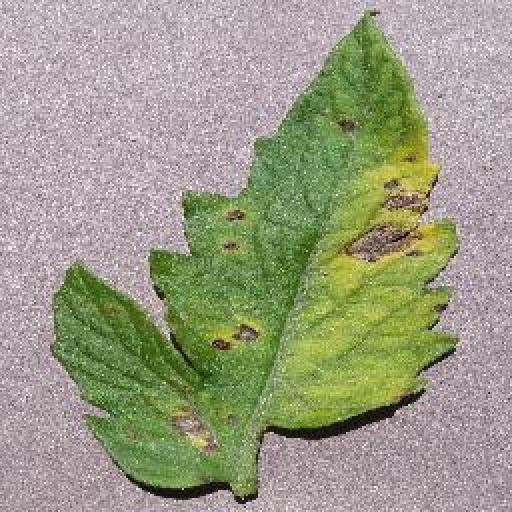Septoria: (53, 8, 464, 489)
